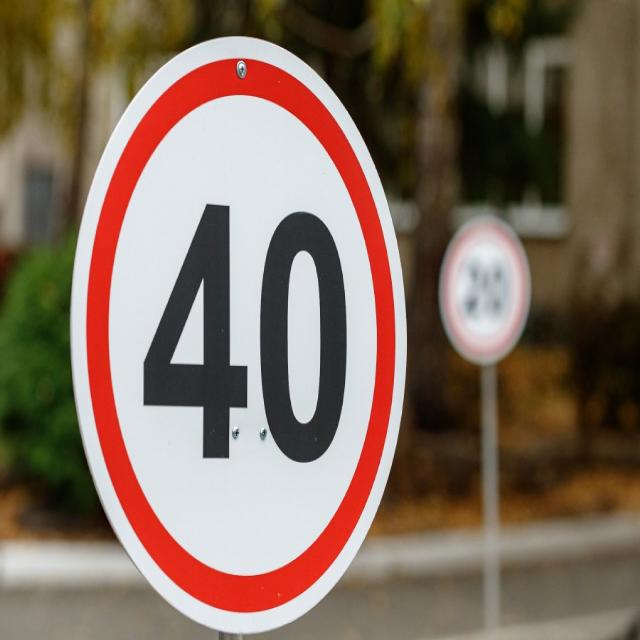speed limit 40: (63, 30, 411, 640)
